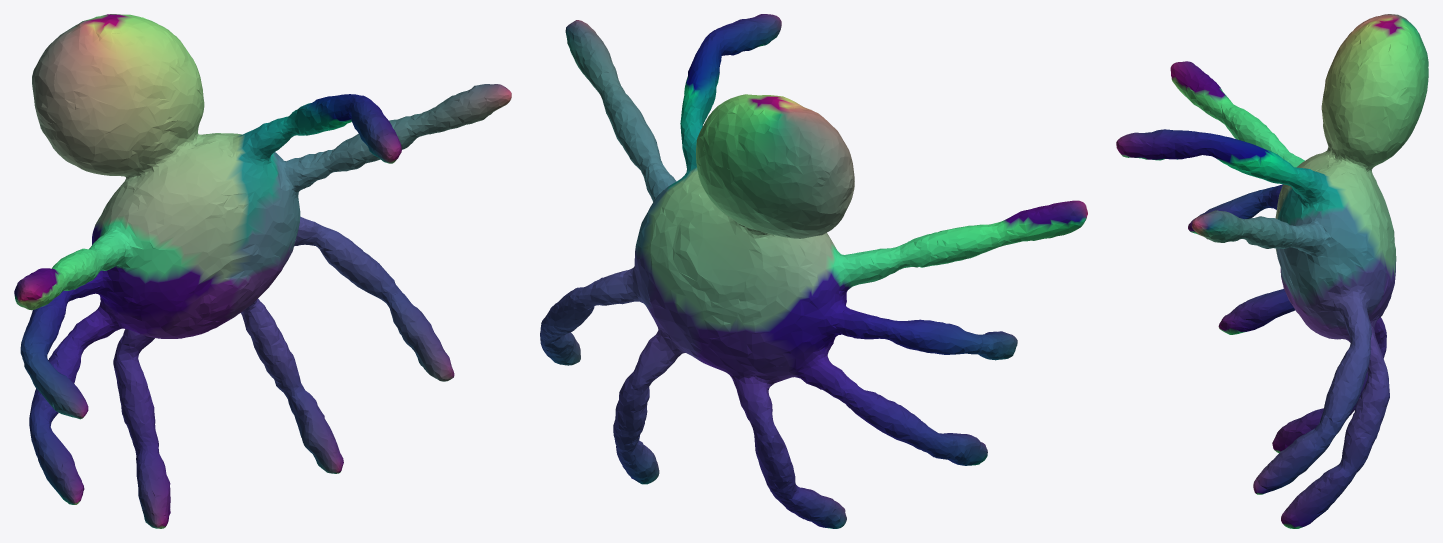
The model's file is spider-12.off.obj.
3 views of the same model, side by side, from view 1: azimuth 30°, elevation 25°; view 2: azimuth 150°, elevation 25°; view 3: azimuth 270°, elevation 25° (orthographic). The views are drawn at different scales.
Bounding box in the file's own units: 1.45 × 1.28 × 0.8383.
